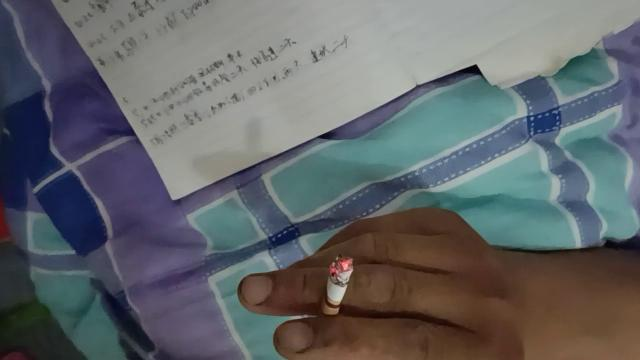Smoking: (314, 256, 356, 338)
